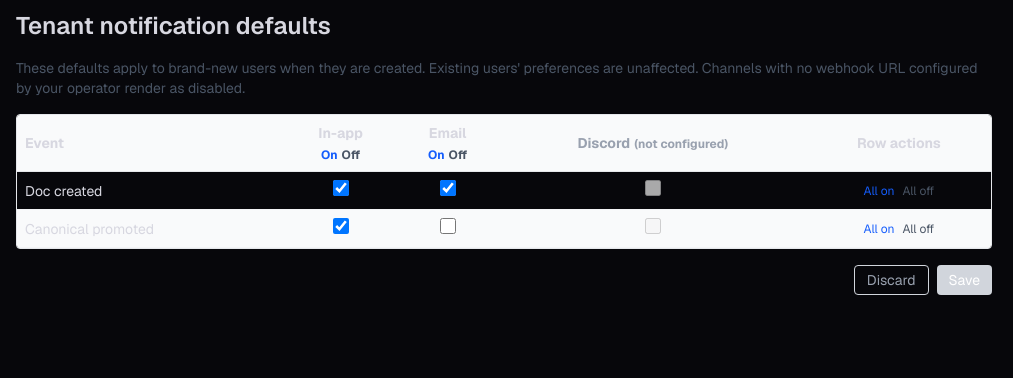
Test: AdminNotificationDefaultsGrid › renders the save error banner when the PUT fails (e.g. 403 for non-super-admin)
Click the checkbox with test id "notif-defaults-cell-kb_doc_created-in_app-toggle": (341, 188) [333,180,349,196]
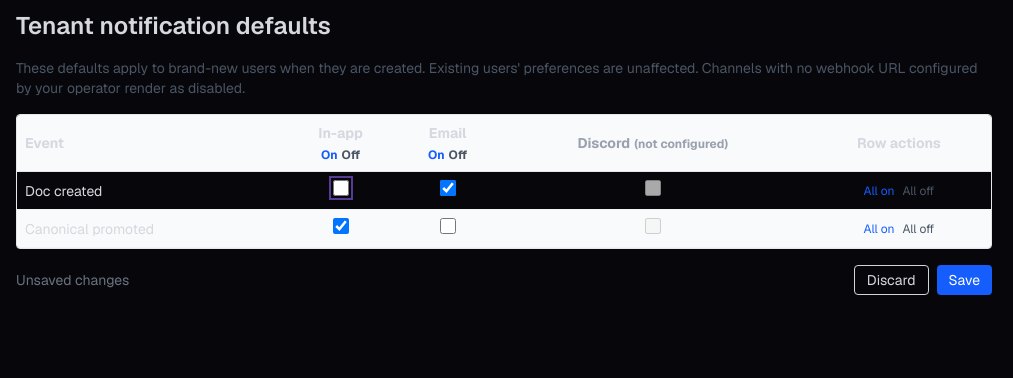
Click the button with test id "notif-defaults-save": (964, 280) [936,265,992,295]
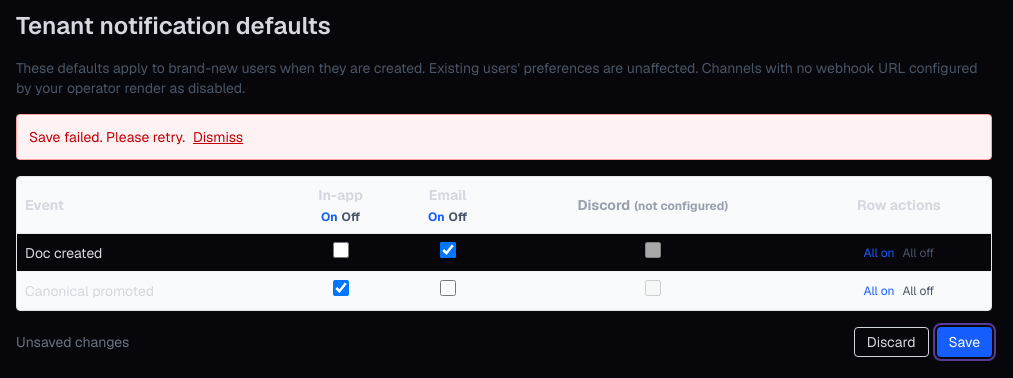
Result: the message "Save failed. Please retry. Dismiss" is shown at [16,114,992,160]
